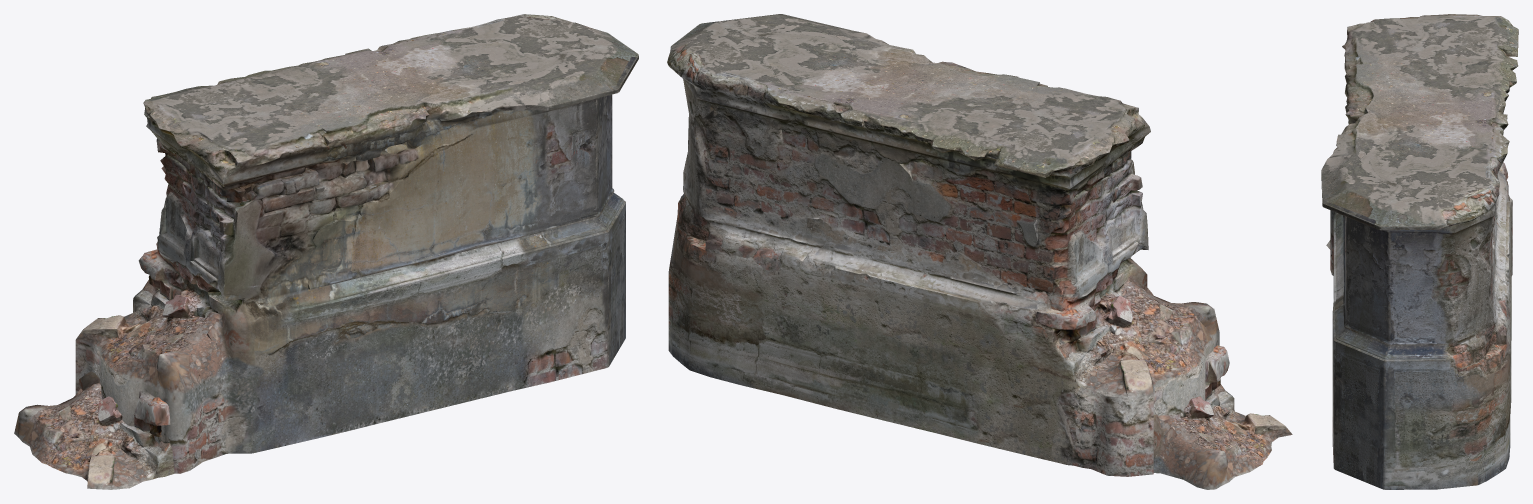
The model's file is SM_ChapelWall_06_03.fbx.
3 renders of one model, left to right at view 1: azimuth 30°, elevation 25°; view 2: azimuth 150°, elevation 25°; view 3: azimuth 270°, elevation 25°, orthographic. The views are drawn at different scales.
Visible parts, largest first — view 1: sm_ChapelWall_06_03_LOD0; view 2: sm_ChapelWall_06_03_LOD0; view 3: sm_ChapelWall_06_03_LOD0.
Part boxes in pixels (x1=…): sm_ChapelWall_06_03_LOD0: x1=14, y1=14, x2=638, y2=489; sm_ChapelWall_06_03_LOD0: x1=667, y1=14, x2=1292, y2=489; sm_ChapelWall_06_03_LOD0: x1=1321, y1=14, x2=1518, y2=489.
Size of the model in its own units: 129 by 414 by 203.
